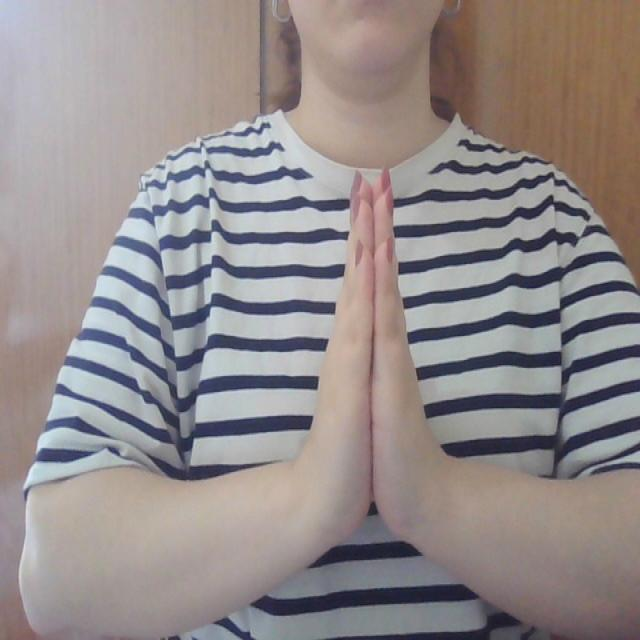Ozur-Dilemek: (304, 159, 442, 560)
